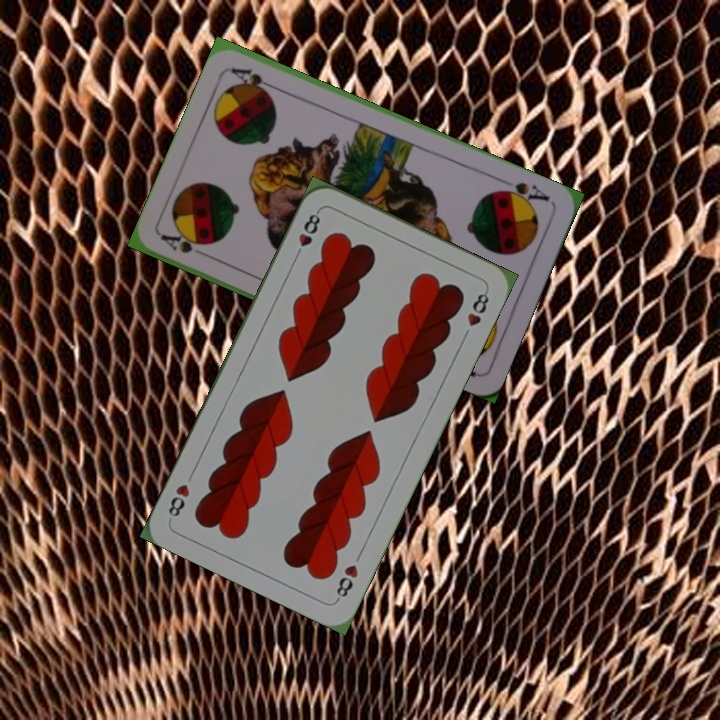H8: (290, 206, 323, 262), (332, 560, 361, 604)
SA: (493, 175, 553, 209), (157, 229, 214, 261)
